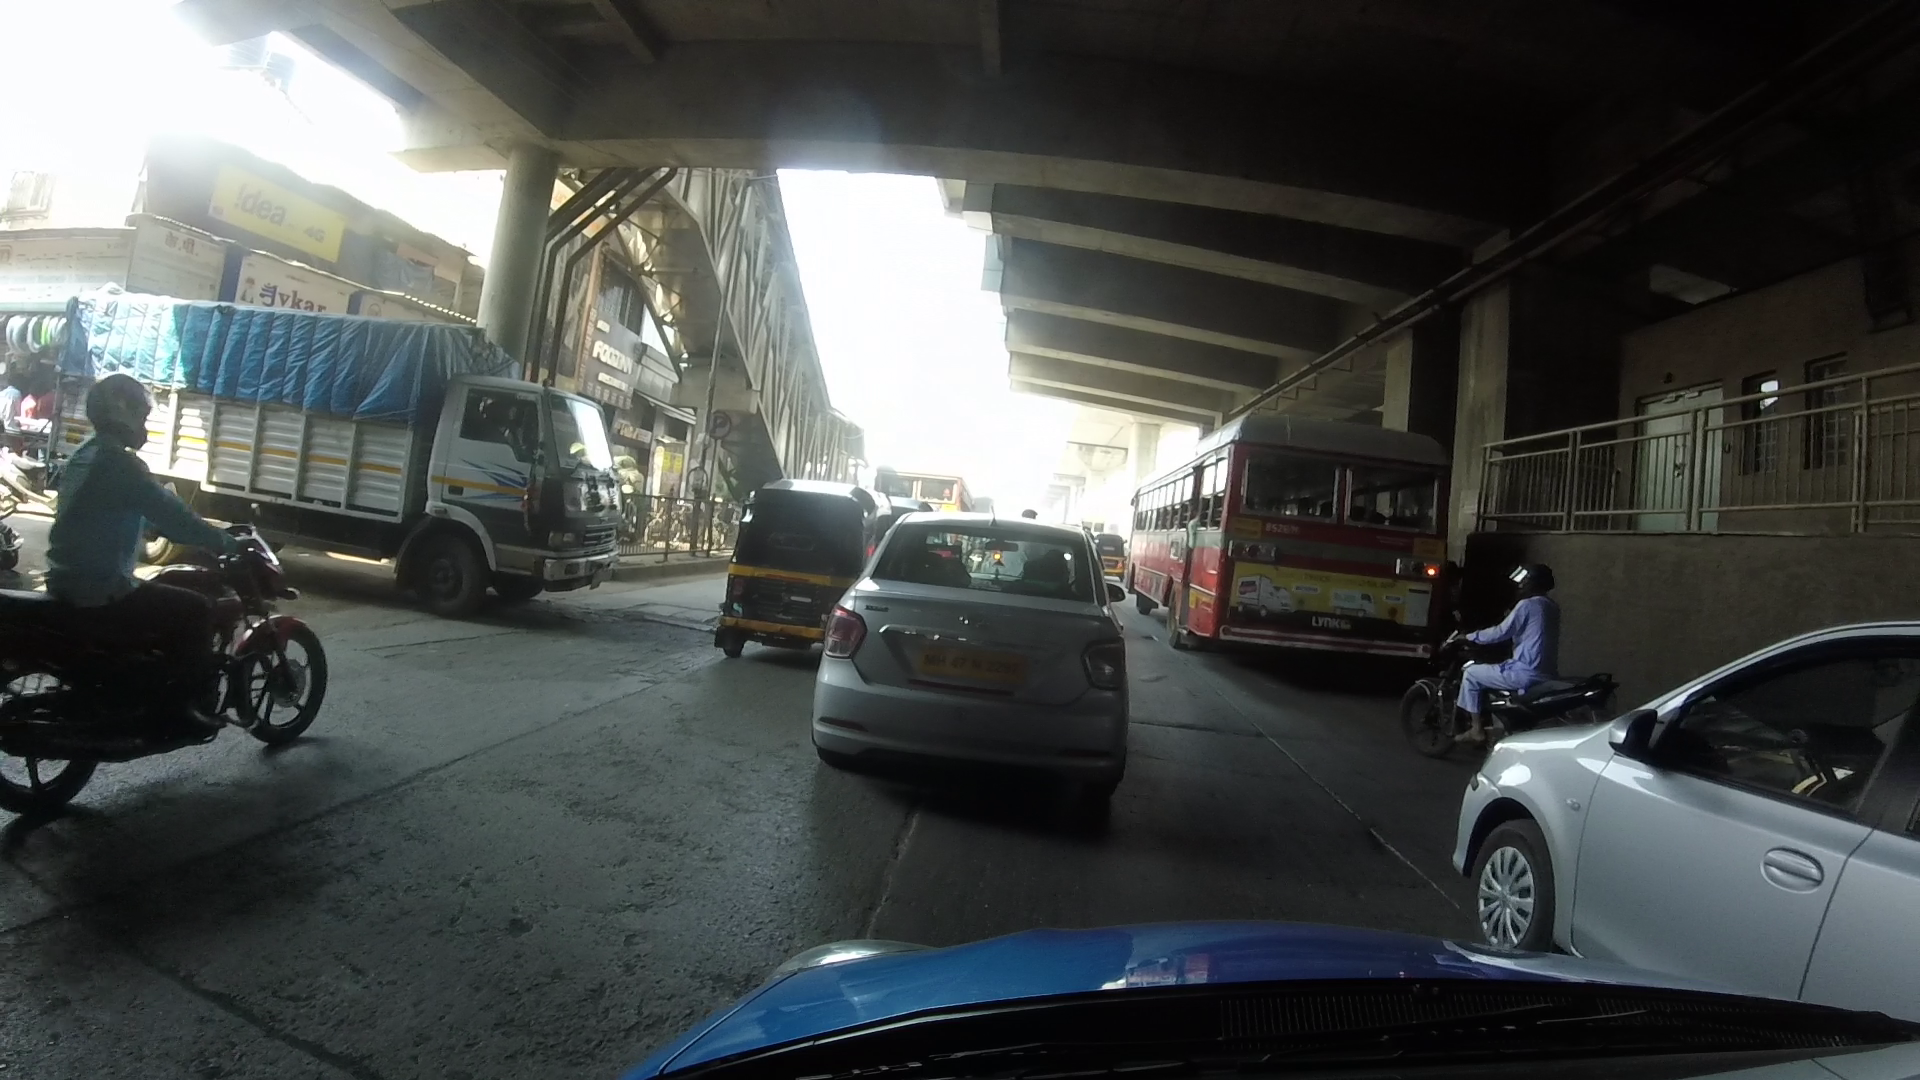bike/scooter: (7, 381, 345, 819), (1412, 545, 1598, 754)
bus: (1116, 407, 1462, 666)
car: (1448, 613, 1920, 1007), (793, 491, 1154, 793)
rickshaw: (707, 429, 886, 663)
truck: (45, 260, 618, 616)
